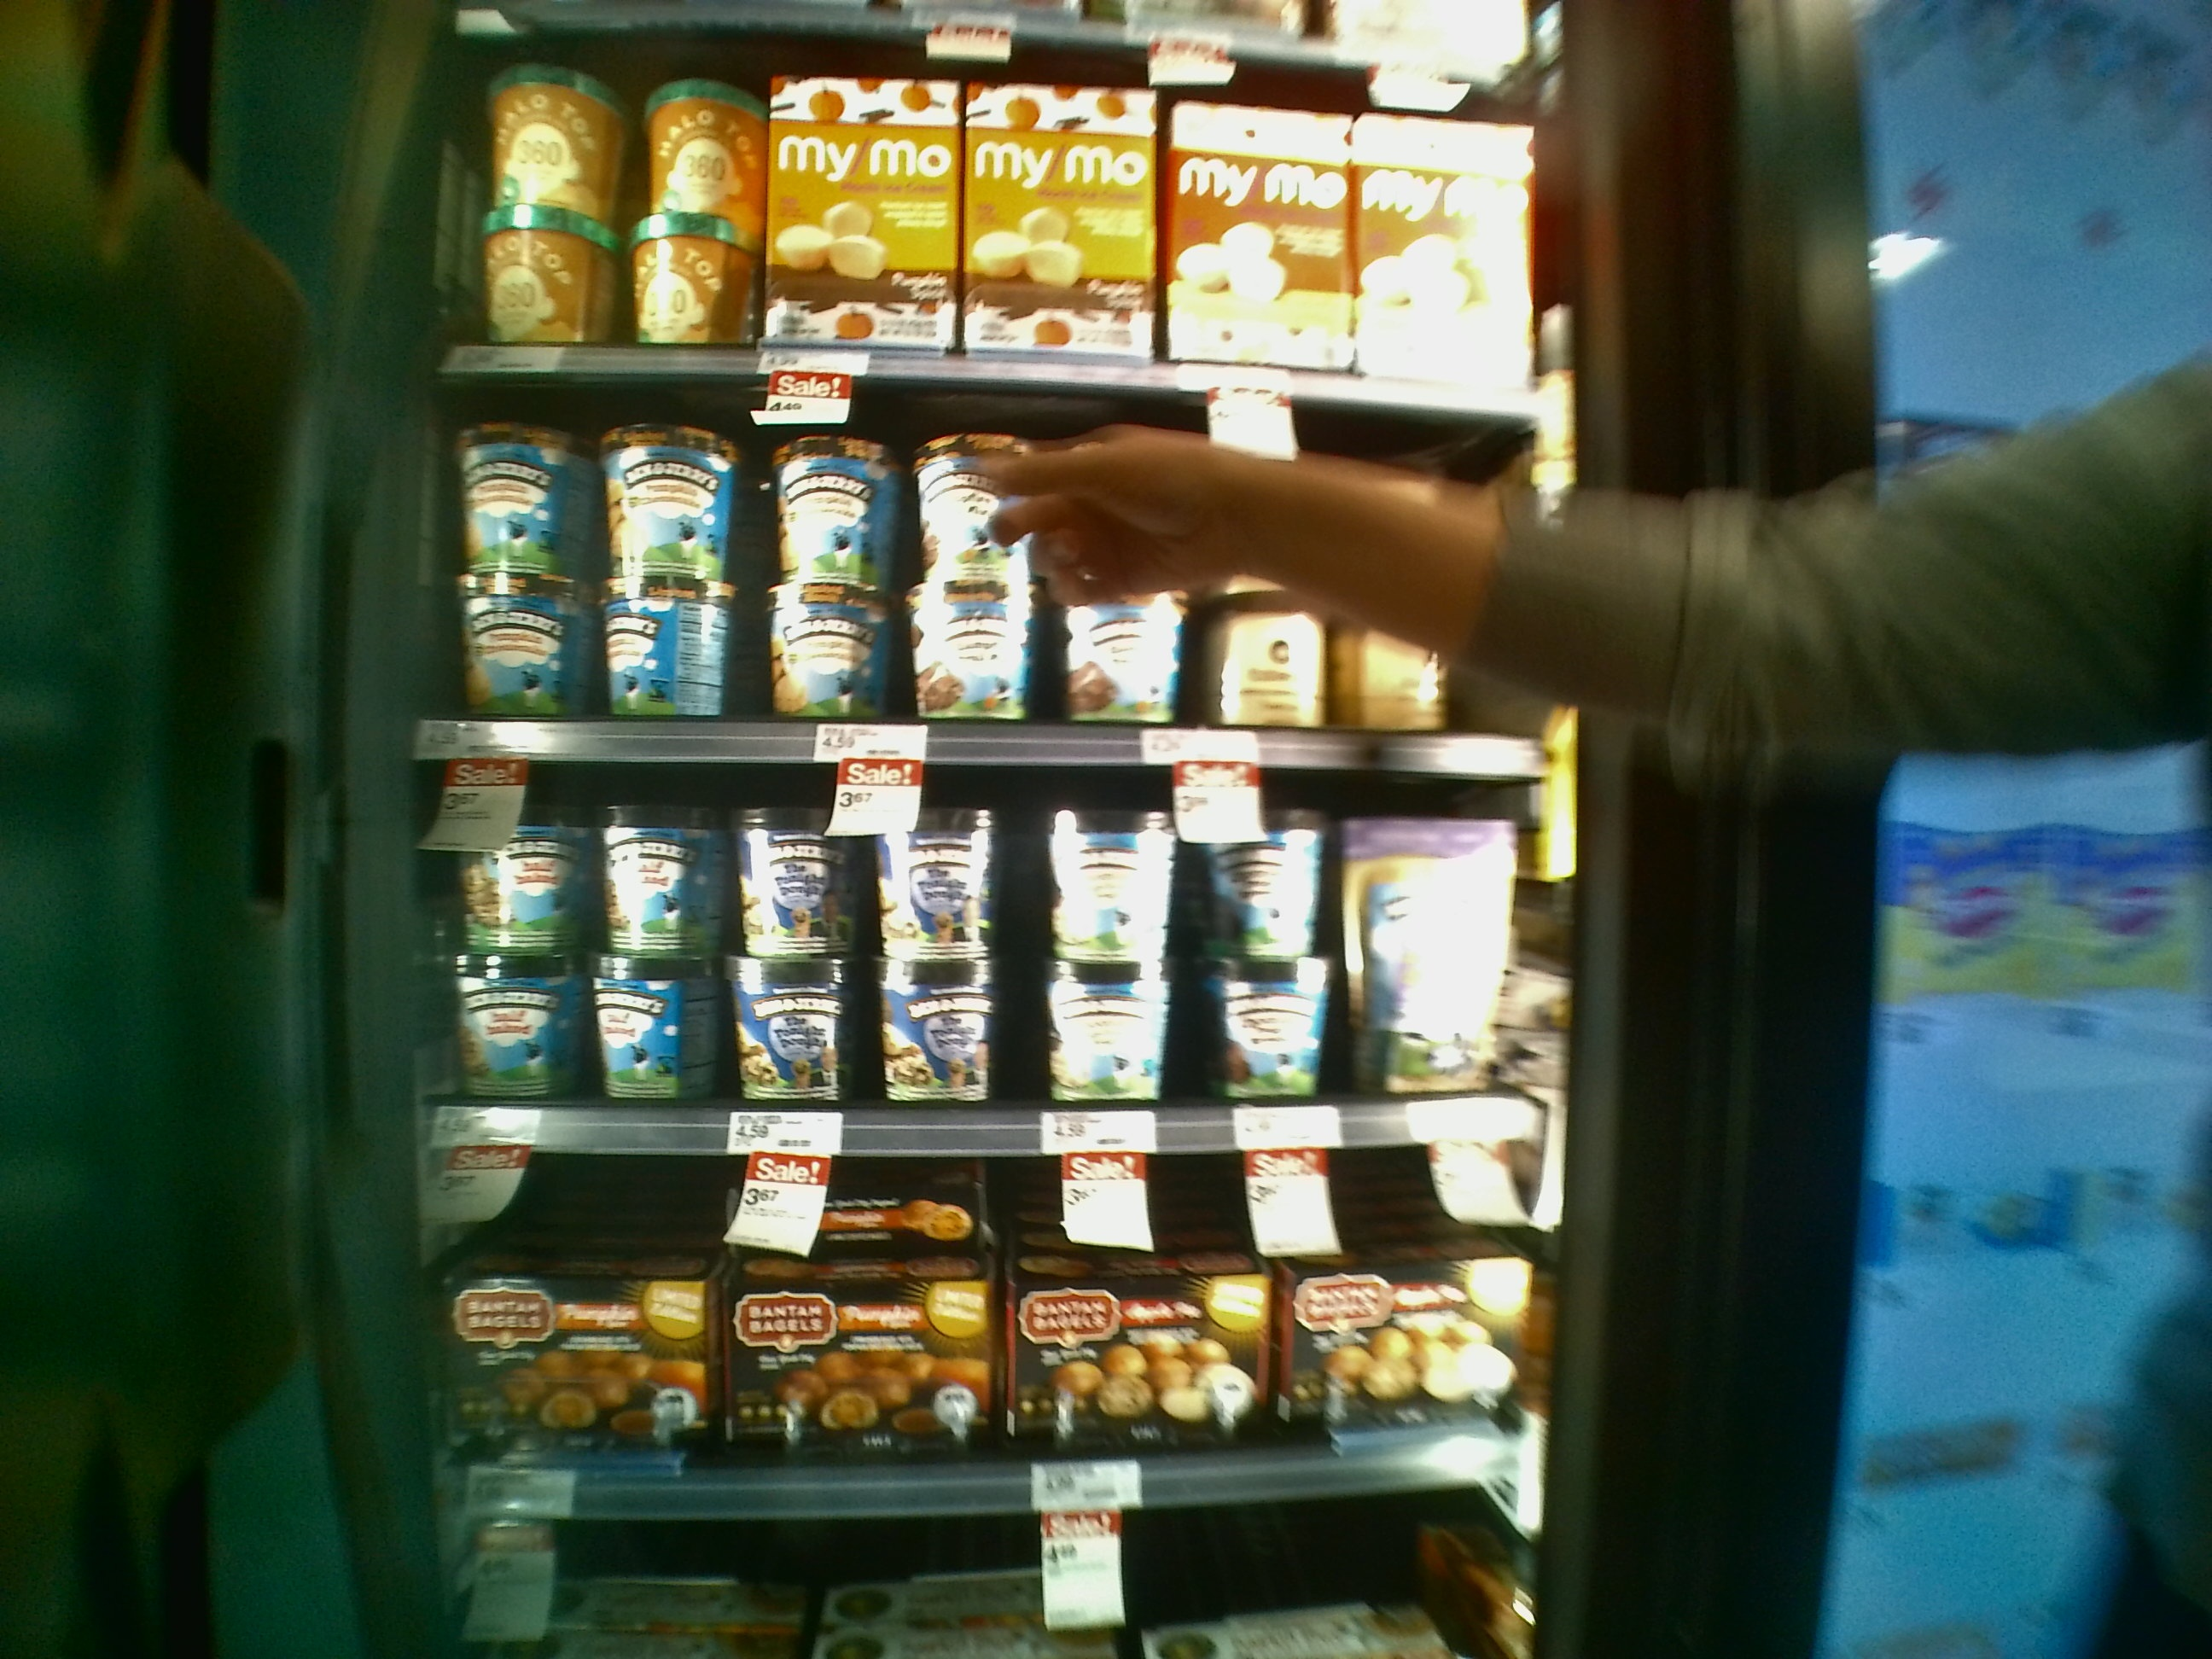shelf: (399, 755, 1569, 1145), (397, 1143, 1550, 1502)
